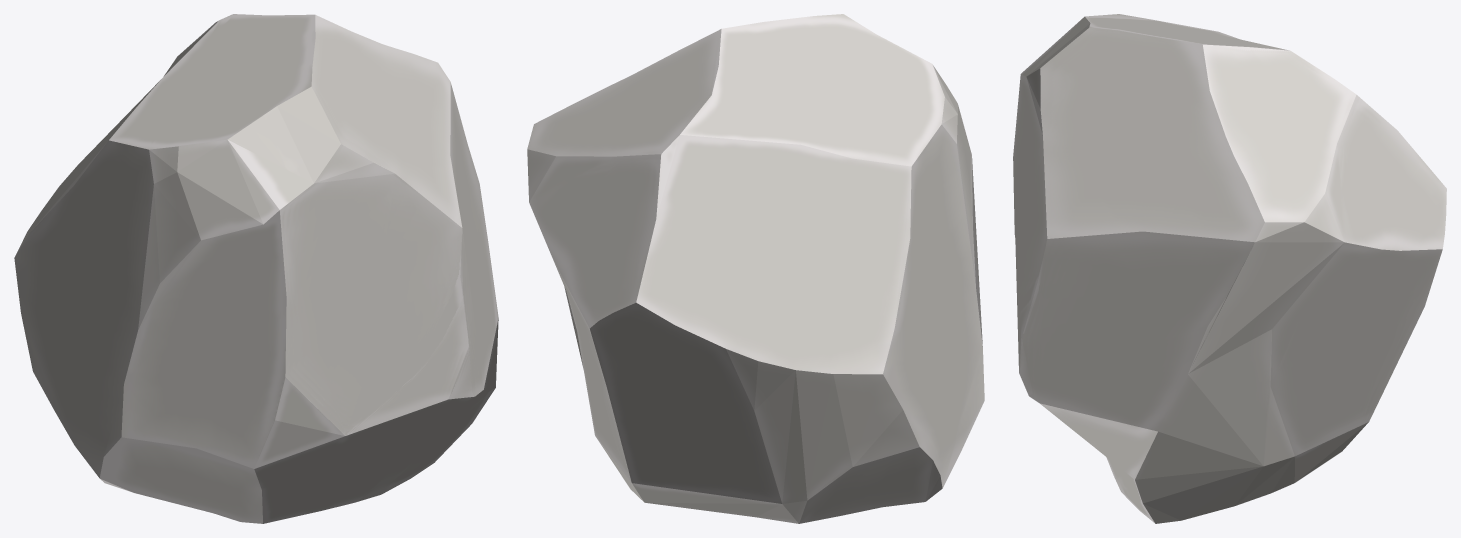
Rendered from Rock_LowPolyPlantsTextured - Copy.fbx.
3 views of the same model, side by side, from view 1: azimuth 30°, elevation 25°; view 2: azimuth 150°, elevation 25°; view 3: azimuth 270°, elevation 25° (orthographic). The views are drawn at different scales.
Parts seen in each view (by area): view 1: Cube.001; view 2: Cube.001; view 3: Cube.001.
Part boxes in pixels (x1=…): Cube.001: x1=14, y1=14, x2=498, y2=523; Cube.001: x1=527, y1=14, x2=984, y2=523; Cube.001: x1=1013, y1=14, x2=1446, y2=523.
Size of the model in its own units: 174 by 185 by 167.
